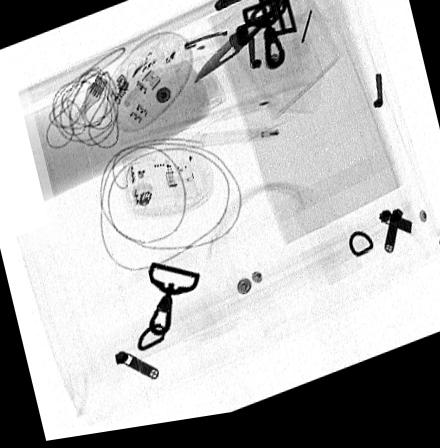Knife: (190, 0, 295, 91)
